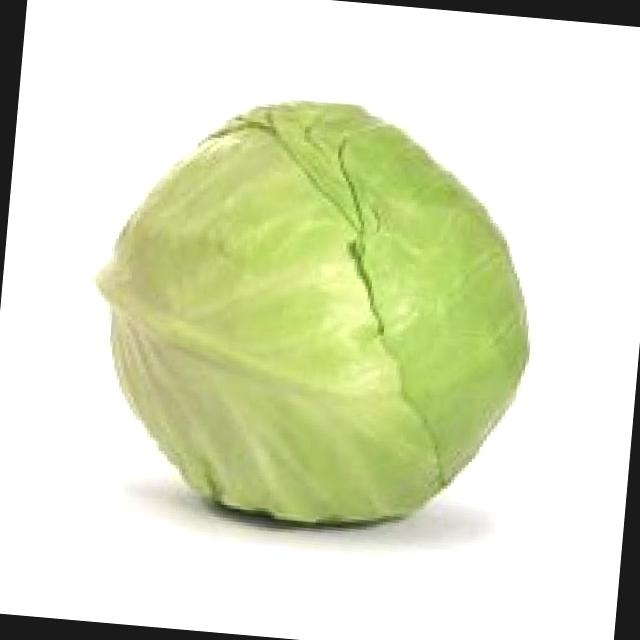cabbage: (84, 58, 542, 556)
